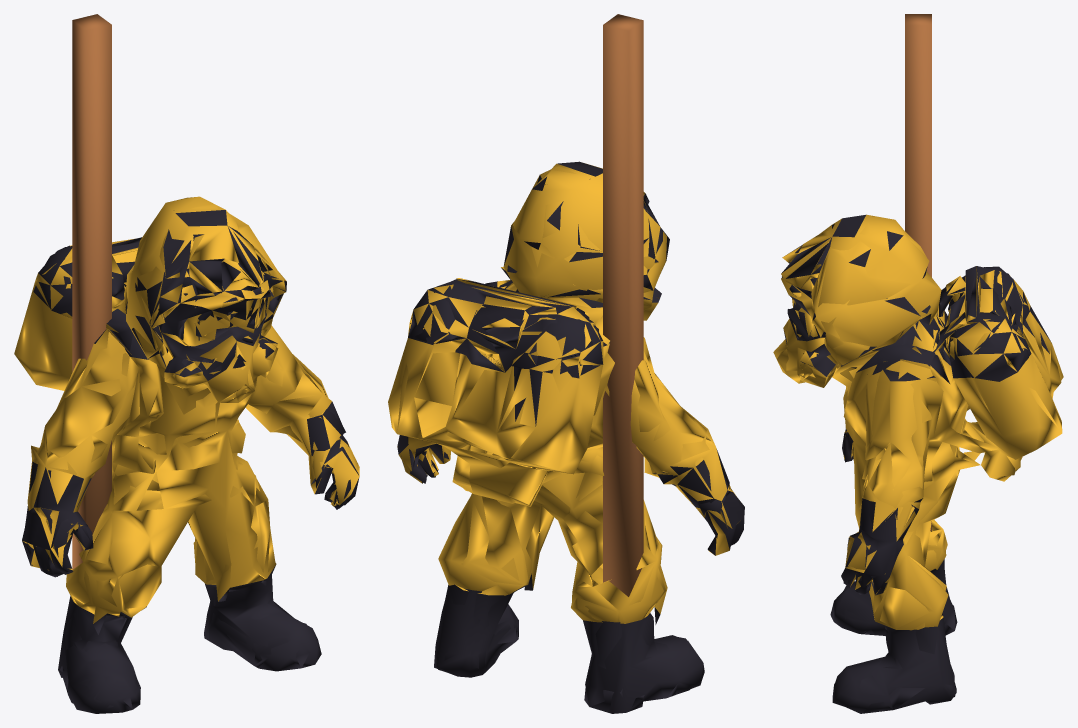
3 views of the same model, side by side, from view 1: azimuth 30°, elevation 25°; view 2: azimuth 150°, elevation 25°; view 3: azimuth 270°, elevation 25° (orthographic). The views are drawn at different scales.
Bounding box in the file's own units: 1.3 × 2.5 × 1.08.
